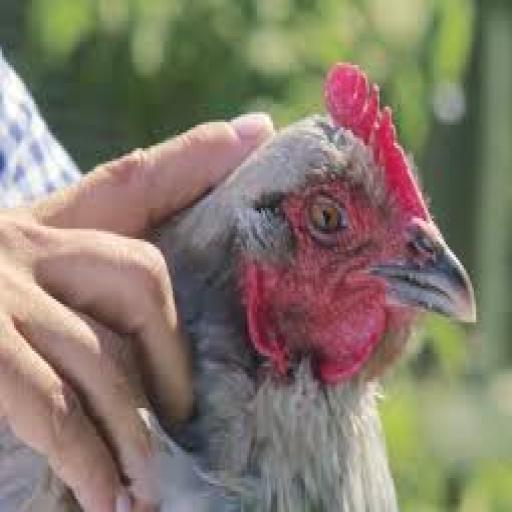disease: (280, 177, 390, 304), (322, 61, 430, 189)
